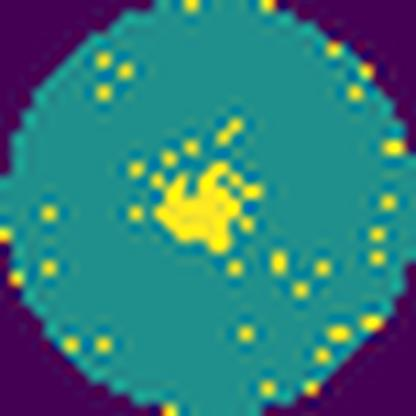Center: (149, 163, 245, 252)
